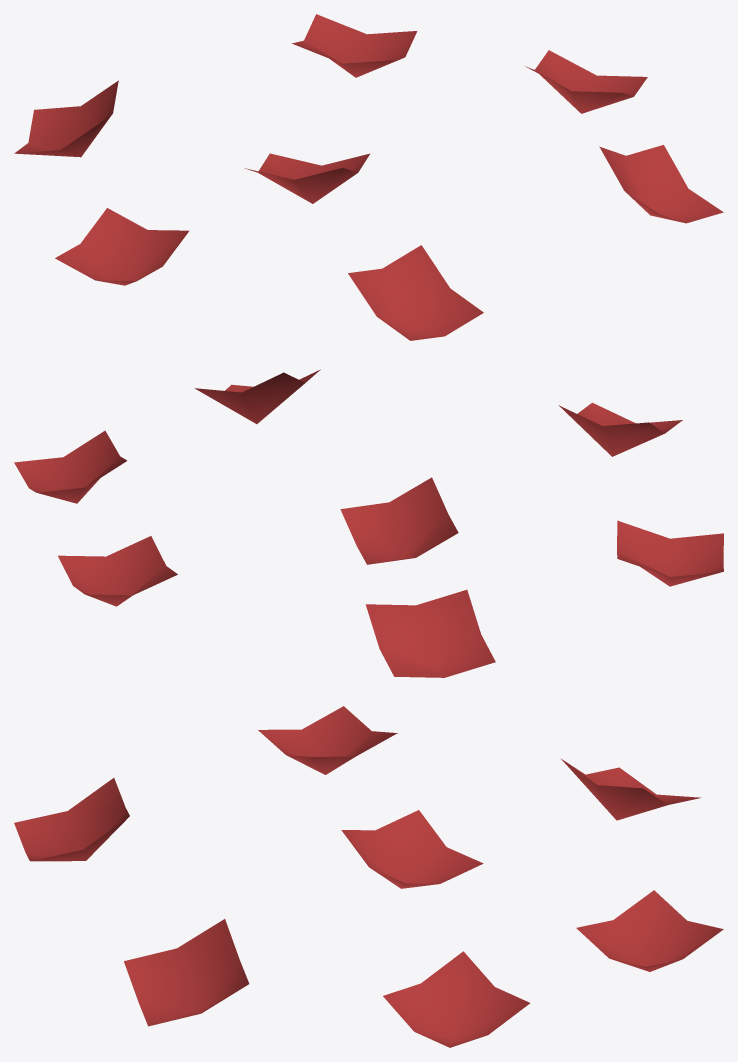
Rendered from SM_flowers.fbx.
3 views of the same model, one above another, from view 1: azimuth 30°, elevation 25°; view 2: azimuth 150°, elevation 25°; view 3: azimuth 270°, elevation 25° (orthographic). The views are drawn at different scales.
Visible parts, largest first — view 1: Plane055; view 2: Plane055; view 3: Plane055.
Boxes of the visible parts, box(x1,y1,x2,y2) form: Plane055: box(14, 14, 723, 340); Plane055: box(14, 369, 723, 677); Plane055: box(14, 706, 723, 1047).
Bounding box in the file's own units: 42.17 × 4.42 × 38.56.
